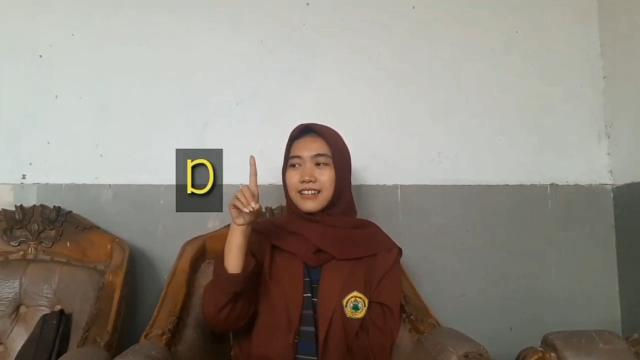D: (226, 152, 262, 228)
